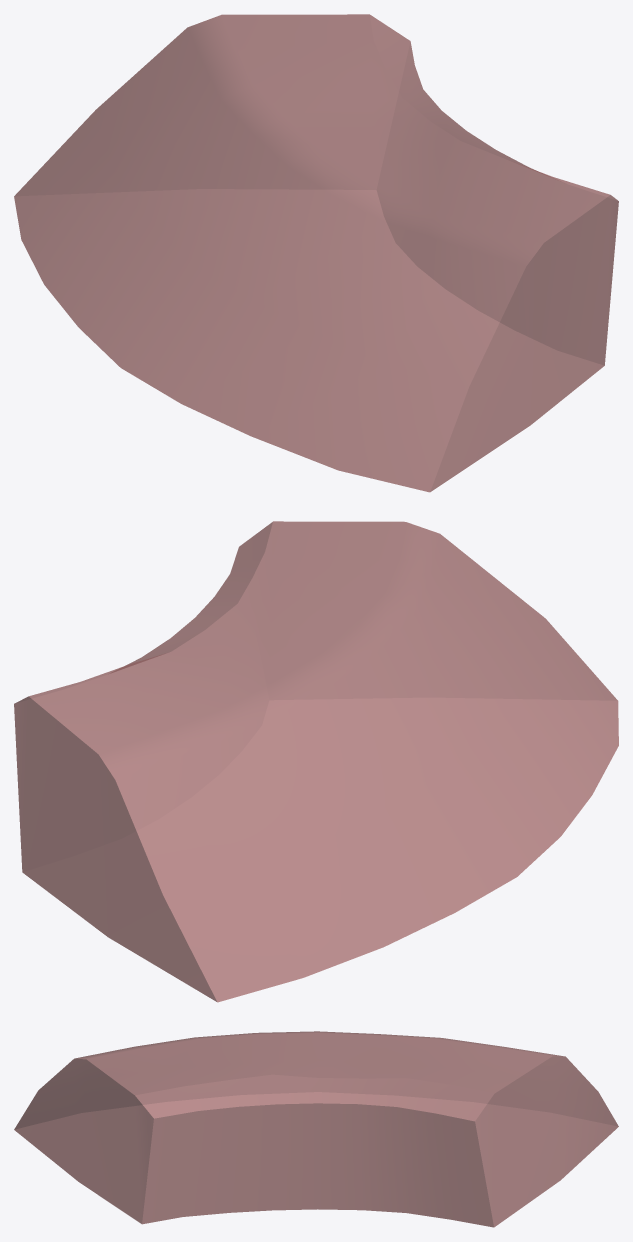
Rendered from FloorCircular03_COL.fbx.
The picture shows the model from 3 angles, top to bottom: view 1: azimuth 30°, elevation 25°; view 2: azimuth 150°, elevation 25°; view 3: azimuth 270°, elevation 25°; orthographic projection. The views are drawn at different scales.
Parts seen in each view (by area): view 1: FloorCircular03_COL; view 2: FloorCircular03_COL; view 3: FloorCircular03_COL.
Part boxes in pixels (box(x1,y1,x2,y2)): FloorCircular03_COL: box(14, 14, 618, 492); FloorCircular03_COL: box(14, 521, 618, 1002); FloorCircular03_COL: box(14, 1031, 618, 1227).
Size of the model in its own units: 1580 by 676 by 2820.
